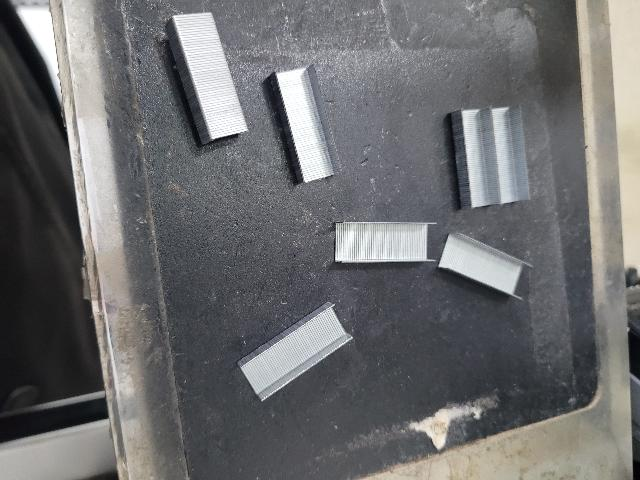Metal: (235, 300, 361, 402), (164, 10, 250, 147), (268, 60, 339, 187), (449, 106, 538, 207), (433, 229, 535, 303), (336, 218, 439, 267)
